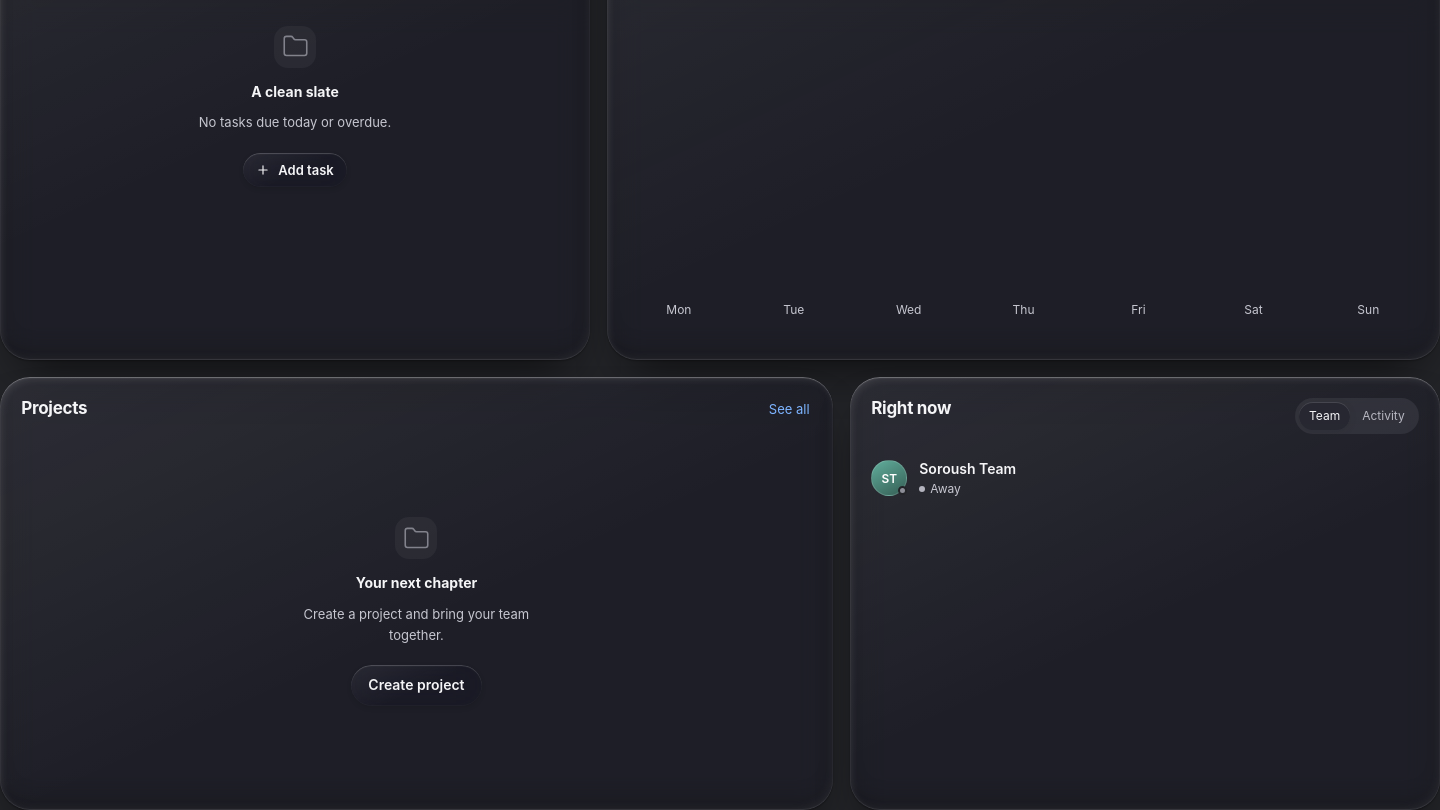
it: Reference dashboard interactions › switches Right now from team to activity without changing stored records
(page scrolled)
Expected: the text "Soroush Team" is shown, [919,460,1016,477]
Step 1. Click the button "Activity" → (1383, 416), box [1352,402,1415,430]
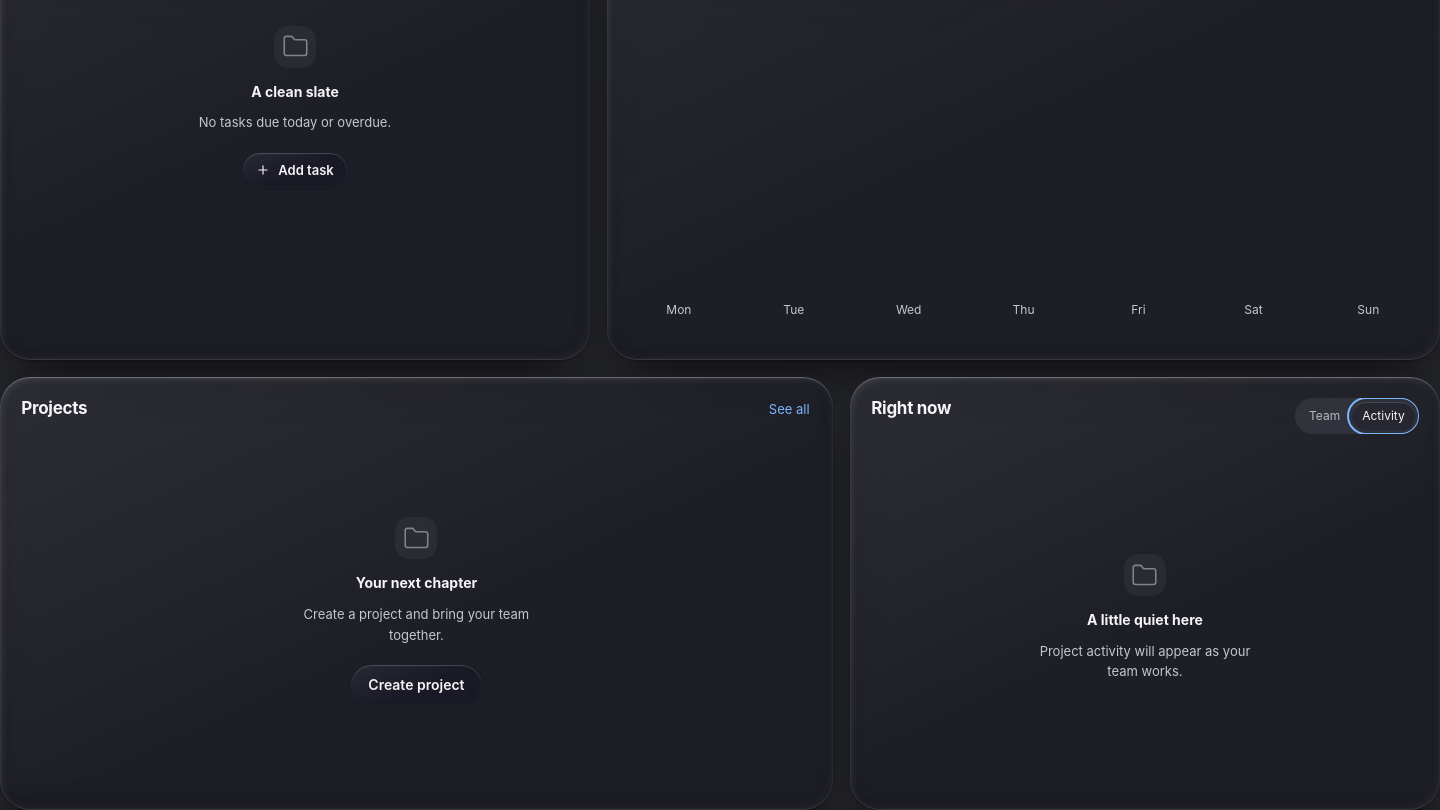
Expected: the heading "A little quiet here" is shown, [1087,610,1203,631]
